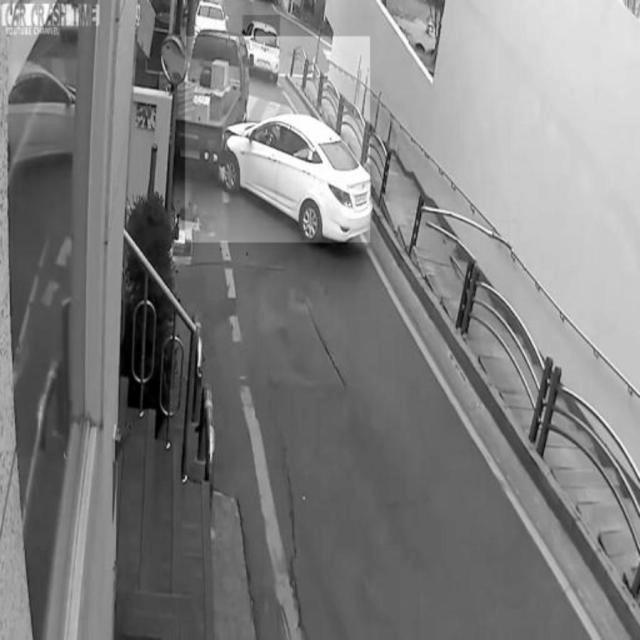accident: (185, 37, 371, 243)
vehicle: (242, 16, 280, 83)
